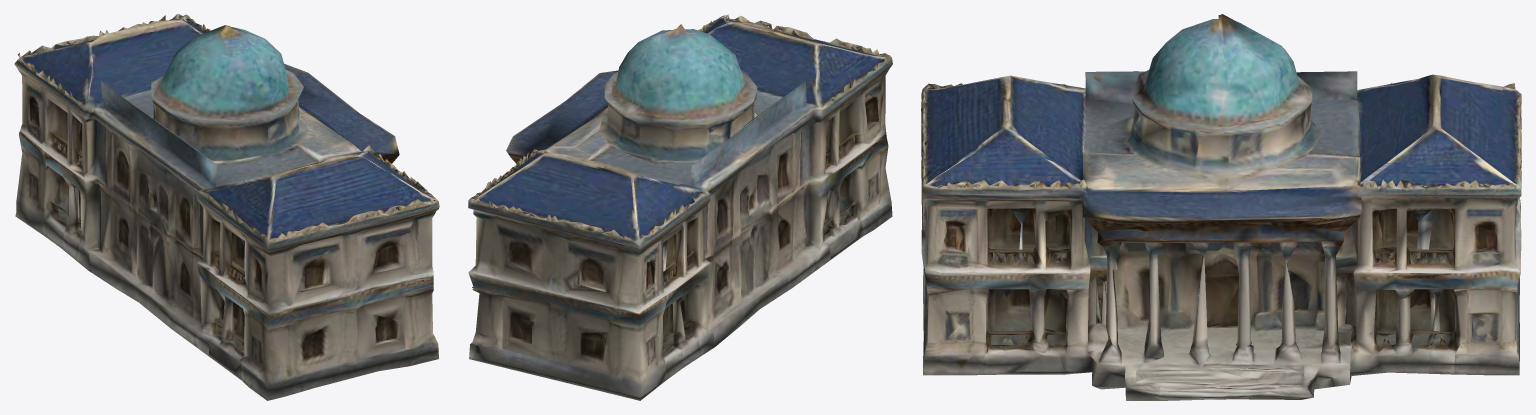
The model's file is house_noble_1.glb.
3 renders of one model, left to right at view 1: azimuth 30°, elevation 25°; view 2: azimuth 150°, elevation 25°; view 3: azimuth 270°, elevation 25°, orthographic. The views are drawn at different scales.
Visible parts, largest first — view 1: tripo_node_bf53fd1a-f9f2-4a5b-9f5e-ce46a4f59928; view 2: tripo_node_bf53fd1a-f9f2-4a5b-9f5e-ce46a4f59928; view 3: tripo_node_bf53fd1a-f9f2-4a5b-9f5e-ce46a4f59928.
Boxes of the visible parts, x1,y1,x2,y2 form: tripo_node_bf53fd1a-f9f2-4a5b-9f5e-ce46a4f59928: (14,14,439,400); tripo_node_bf53fd1a-f9f2-4a5b-9f5e-ce46a4f59928: (468,14,892,400); tripo_node_bf53fd1a-f9f2-4a5b-9f5e-ce46a4f59928: (921,14,1521,400).
Size of the model in its own units: 0.4818 by 0.5587 by 0.9783.
Materials: 1 (1 with a texture image).
